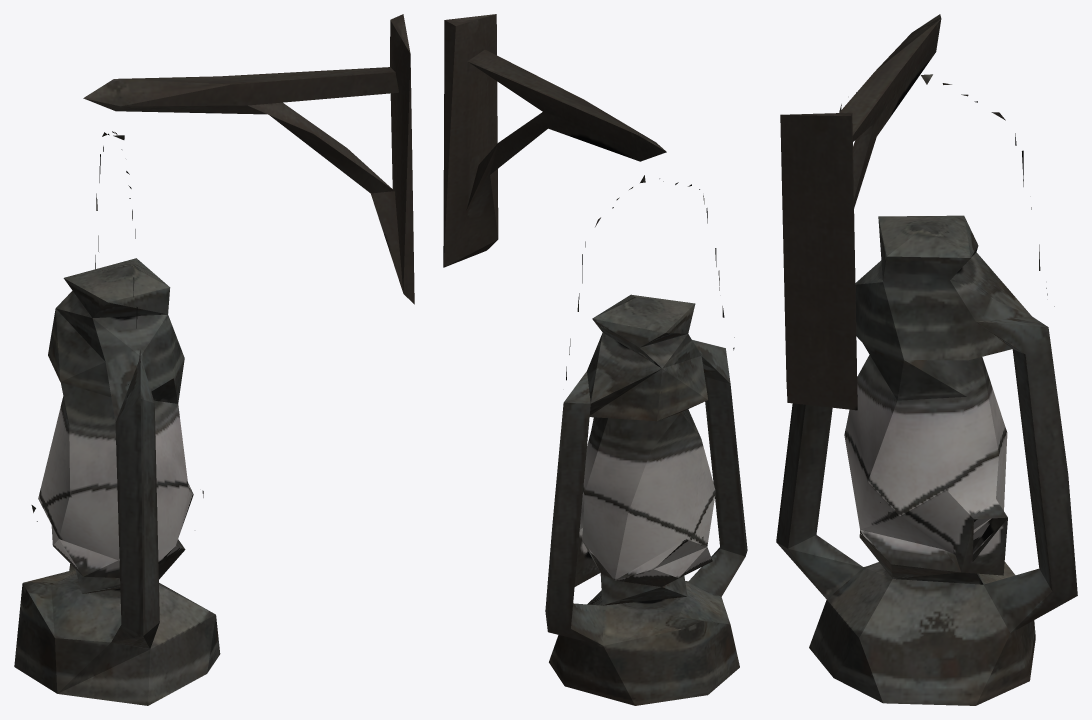
The model's file is hanging_lantern_lod0.glb.
3 renders of one model, left to right at view 1: azimuth 30°, elevation 25°; view 2: azimuth 150°, elevation 25°; view 3: azimuth 270°, elevation 25°, orthographic. The views are drawn at different scales.
Visible parts, largest first — view 1: low; view 2: low; view 3: low.
Part boxes in pixels (bbox=[...]): low: bbox=[14, 14, 414, 705]; low: bbox=[443, 14, 747, 705]; low: bbox=[776, 14, 1077, 705].
Size of the model in its own units: 0.39 by 0.6767 by 0.2716.
Materials: 1 (1 with a texture image).
